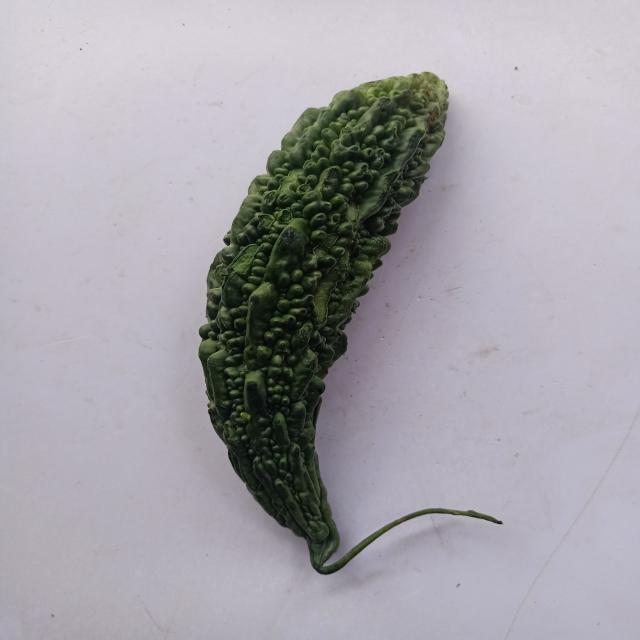Bitter Gourd: (195, 52, 522, 605)
